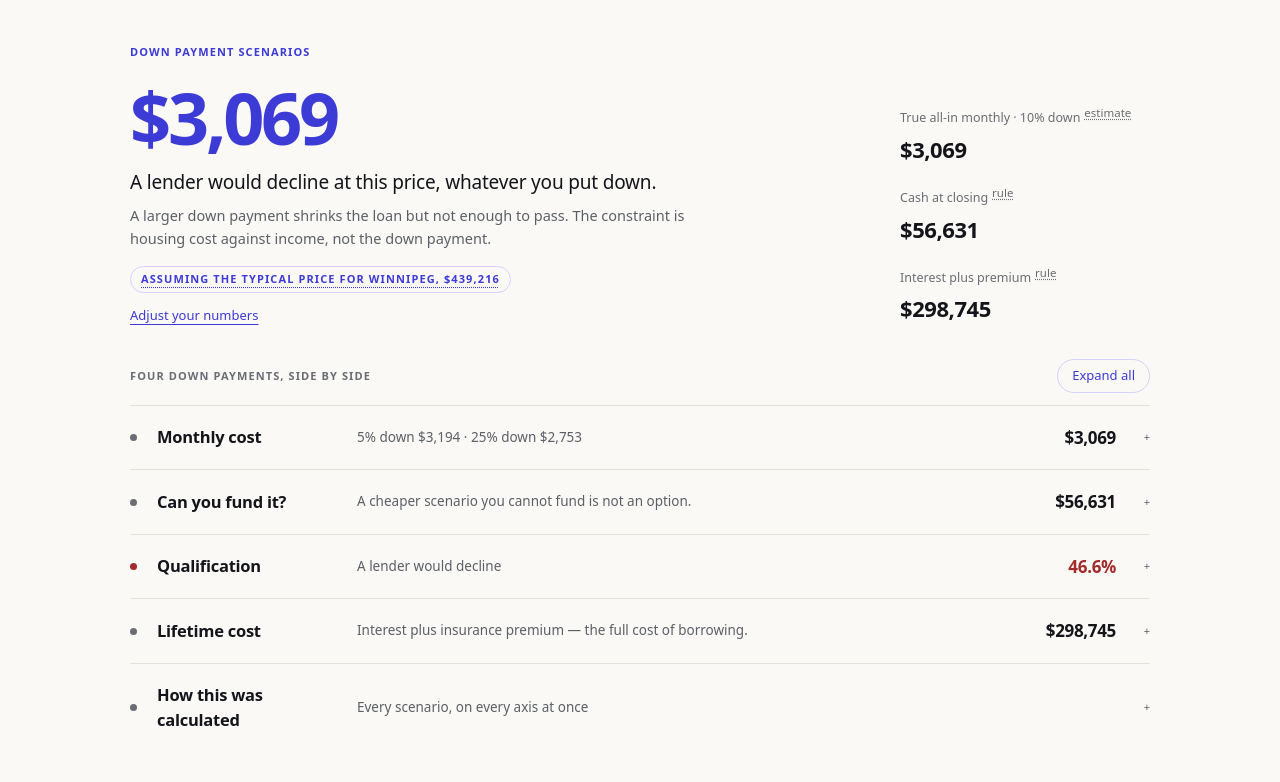
Scenario: Scenarios — four columns, one recommendation › shows no premium tax in Manitoba, which dropped it in 2020
Click the button "Can you fund it?" at (640, 502), box [130,470,1150,534]
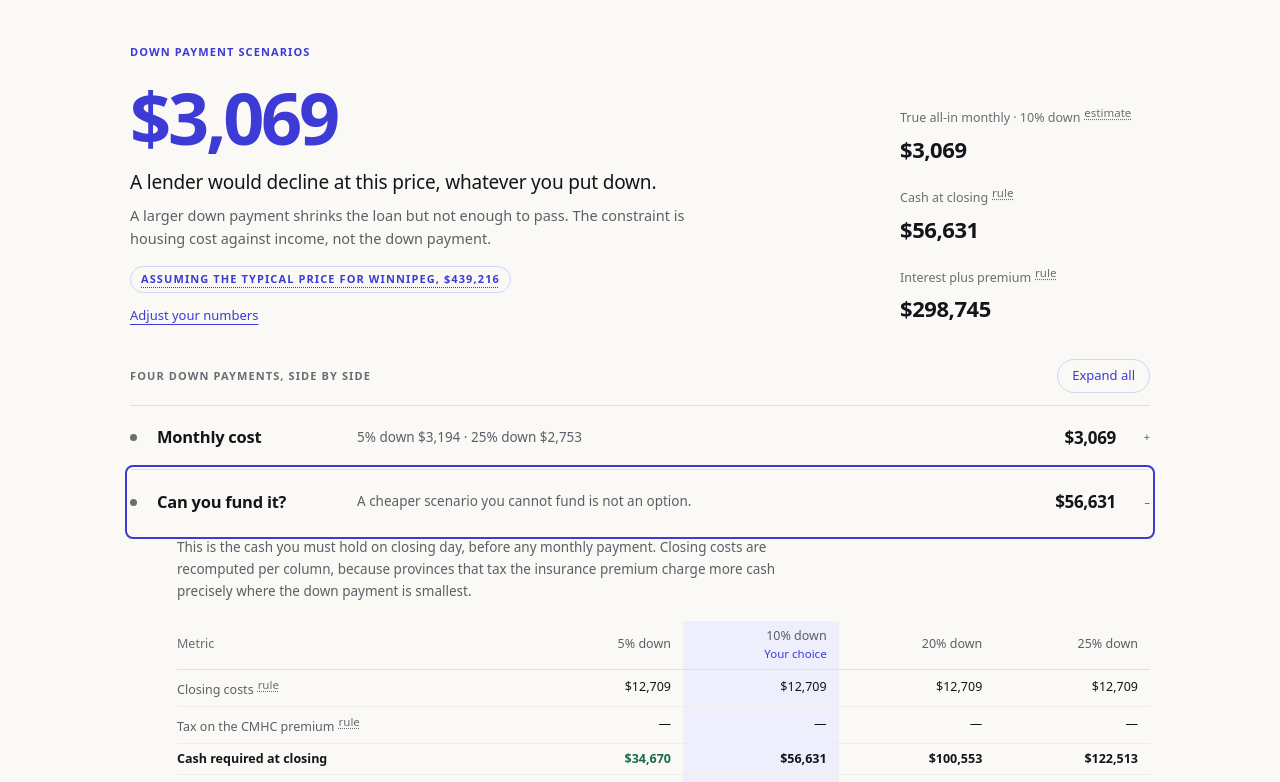
Expected: the 1st cell "—" is shown, [527,706,683,743]
Expected: the 2nd cell "—" is shown, [683,706,839,743]
Expected: the 3rd cell "—" is shown, [839,706,994,743]
